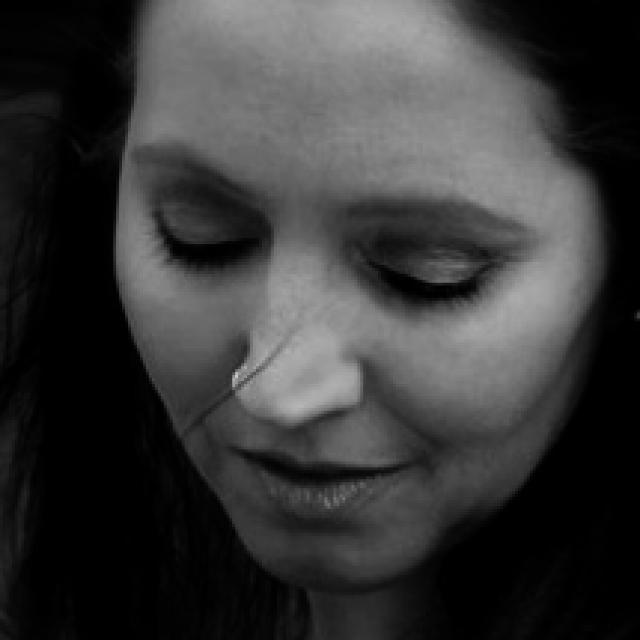sleepy: (118, 130, 571, 306)
